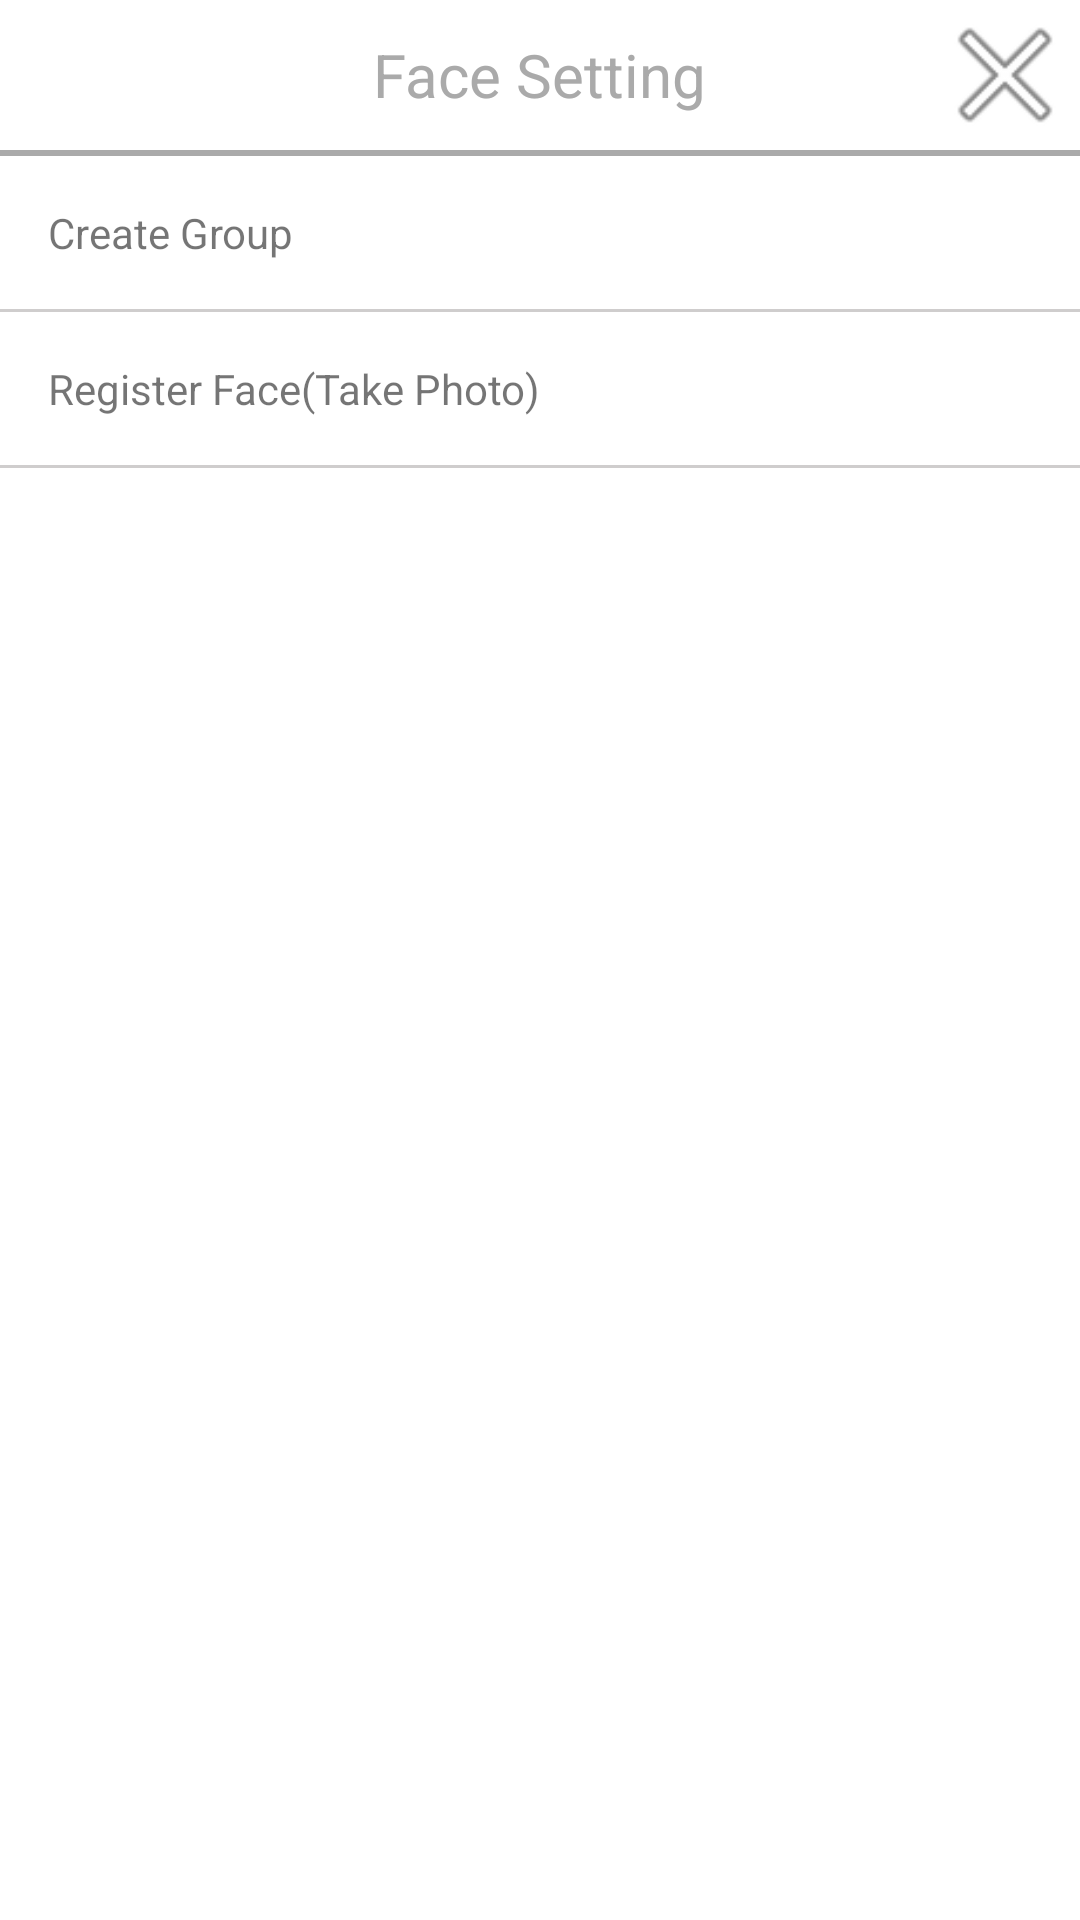

Named icons in this screenshot (1080×1920) and their centers, (x,y):
close clear cancel: (1005,75)
